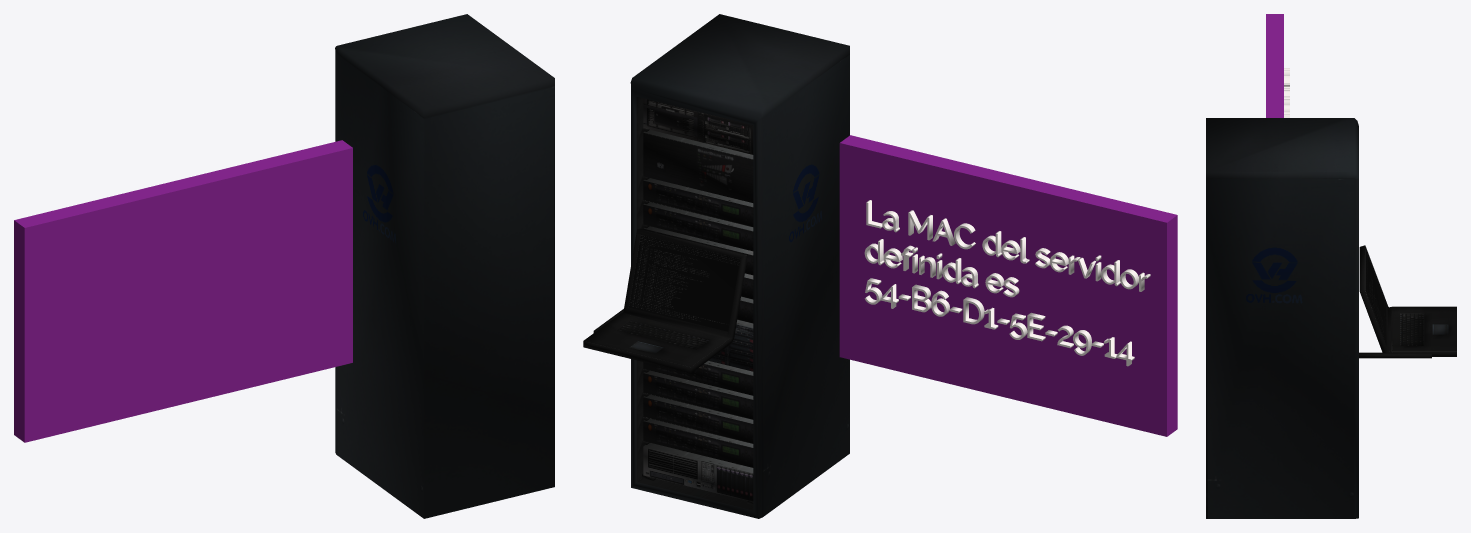
The model's file is capa2.glb.
The picture shows the model from 3 angles, left to right: view 1: azimuth 30°, elevation 25°; view 2: azimuth 150°, elevation 25°; view 3: azimuth 270°, elevation 25°; orthographic projection. The views are drawn at different scales.
Visible parts, largest first — view 1: rack_Cube1_auv, Cube; view 2: Cube, rack_Cube1_auv, console_console_auv, Text, ups_Cube12_auv, misc1_Cube12_auv, misc2_Cube12_auv, 1u_server9_Cube12_auv, 1u_server2_Cube12_auv, 1u_server8_Cube12_auv, 1u_server3_Cube12_auv, 1u_server1_Cube12_auv (+3 smaller); view 3: rack_Cube1_auv, console_console_auv, Cube, console_left_Cube1_auv, Text.
Part boxes in pixels (box(x1,y1,x2,y2)): rack_Cube1_auv: box(335, 14, 554, 518); Cube: box(14, 140, 352, 442); Cube: box(839, 135, 1177, 436); rack_Cube1_auv: box(630, 14, 849, 518); console_console_auv: box(583, 228, 747, 373); Text: box(864, 200, 1150, 366); ups_Cube12_auv: box(643, 130, 753, 202); misc1_Cube12_auv: box(643, 443, 753, 501); misc2_Cube12_auv: box(643, 98, 753, 154); 1u_server9_Cube12_auv: box(643, 178, 753, 226); 1u_server2_Cube12_auv: box(643, 394, 753, 443); 1u_server8_Cube12_auv: box(643, 202, 753, 251); 1u_server3_Cube12_auv: box(643, 370, 753, 419); 1u_server1_Cube12_auv: box(643, 419, 753, 467); rack_Cube1_auv: box(1206, 118, 1358, 518); console_console_auv: box(1359, 245, 1456, 356); Cube: box(1266, 14, 1283, 117); console_left_Cube1_auv: box(1359, 352, 1431, 358); Text: box(1284, 68, 1289, 117).
Size of the model in its own units: 3.81 by 3.01 by 1.97.
Materials: 5 (3 with a texture image).
